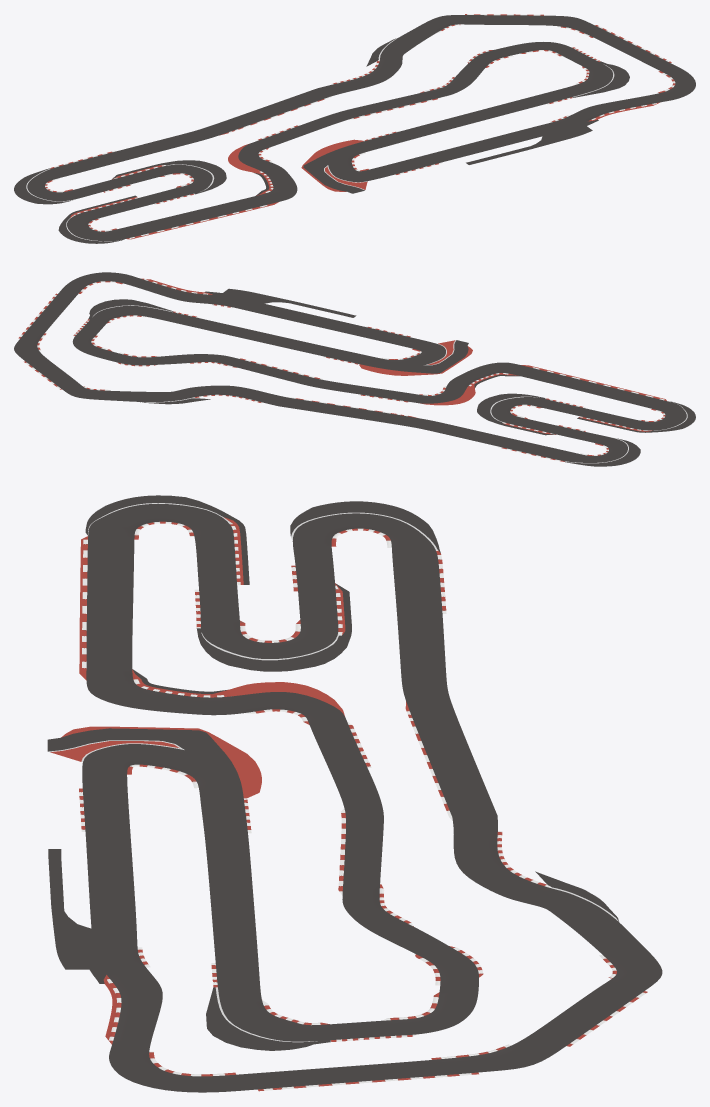
3 renders of one model, top to bottom at view 1: azimuth 30°, elevation 25°; view 2: azimuth 150°, elevation 25°; view 3: azimuth 270°, elevation 25°, orthographic. The views are drawn at different scales.
Visible parts, largest first — view 1: TRACK; view 2: TRACK; view 3: TRACK.
Part boxes in pixels (left/top/right/bottom): TRACK: left=14, top=14, right=695, bottom=243; TRACK: left=14, top=272, right=695, bottom=466; TRACK: left=47, top=495, right=662, bottom=1092.
Bounding box in the file's own units: 3.86 × 0.000664 × 1.68.
1 material, 1 textured.
